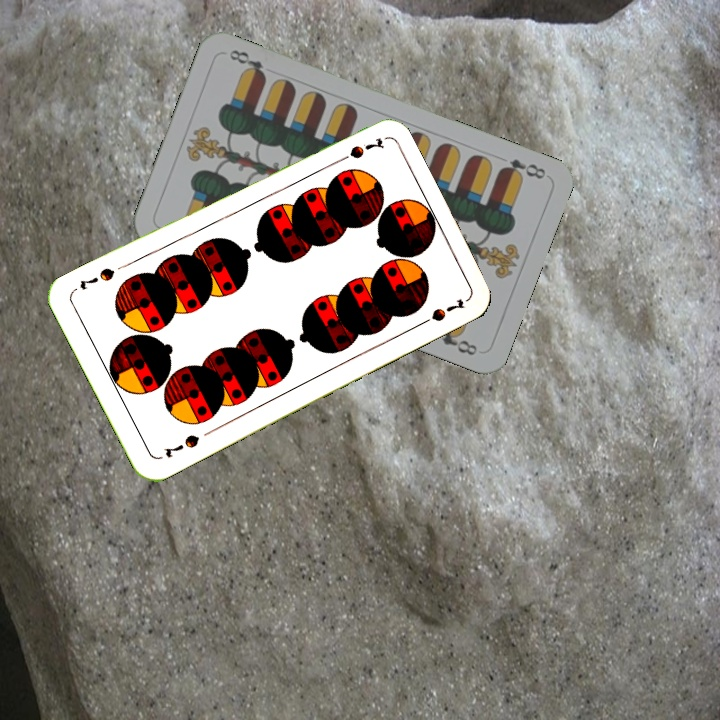E8: (495, 155, 549, 182)
S7: (329, 133, 386, 167), (160, 430, 202, 461)
